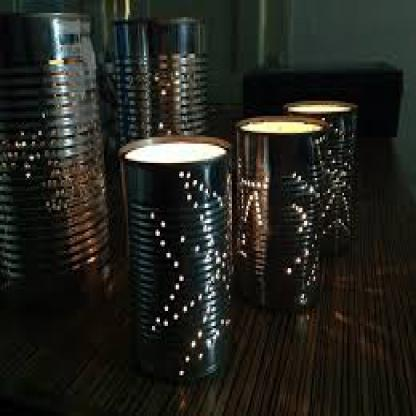METAL: (0, 11, 112, 300), (117, 133, 230, 382), (233, 114, 324, 311), (109, 15, 205, 142), (282, 99, 356, 260)
